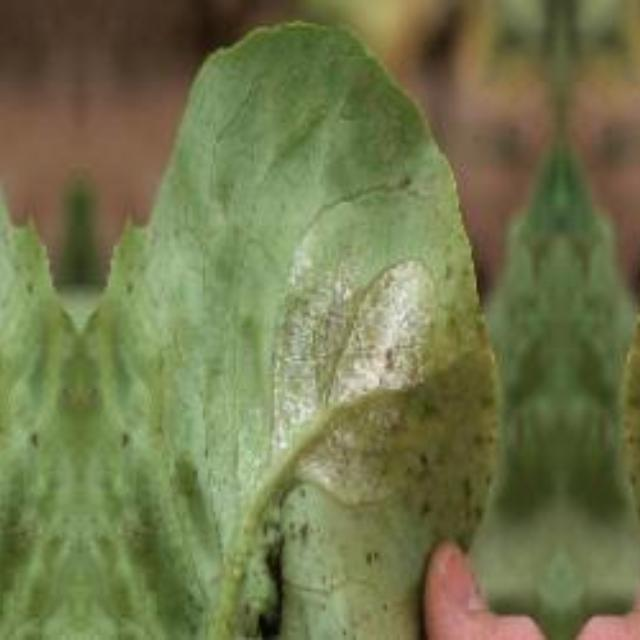Downy_mildew: (263, 246, 435, 468)
